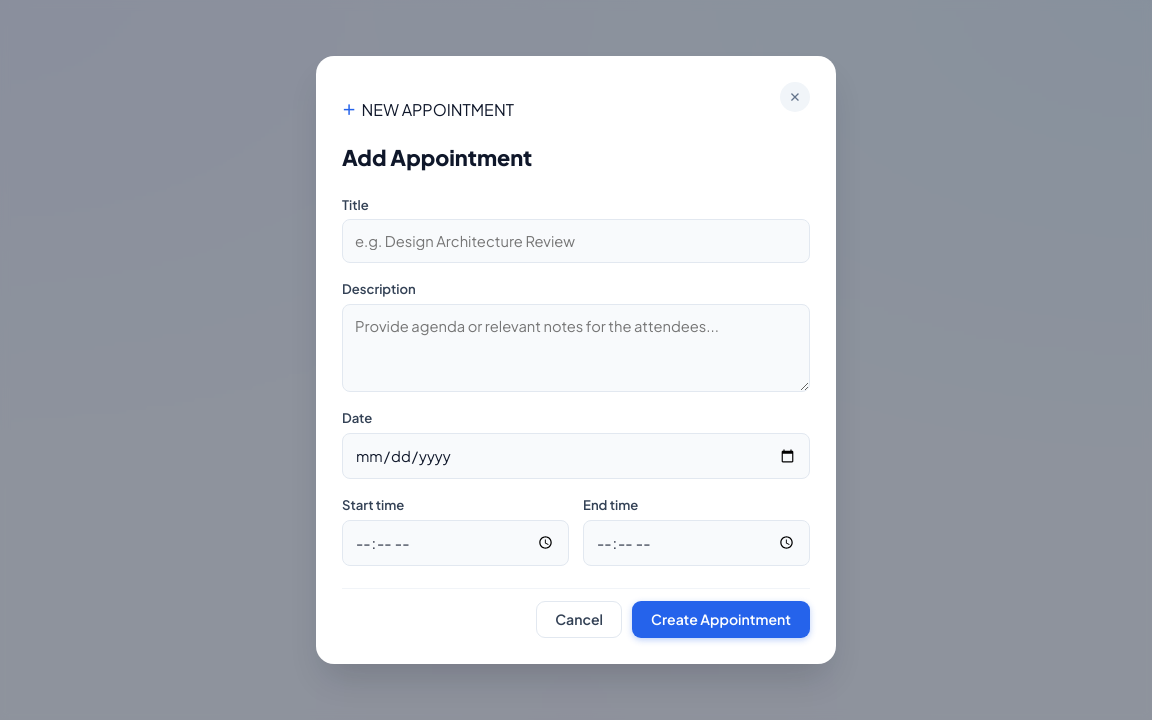
AppointmentForm › validates start and end times are required
The image size is (1152, 720).
In the field labelled "Title": (576,241) [342, 219, 810, 263], type "Dental Checkup"
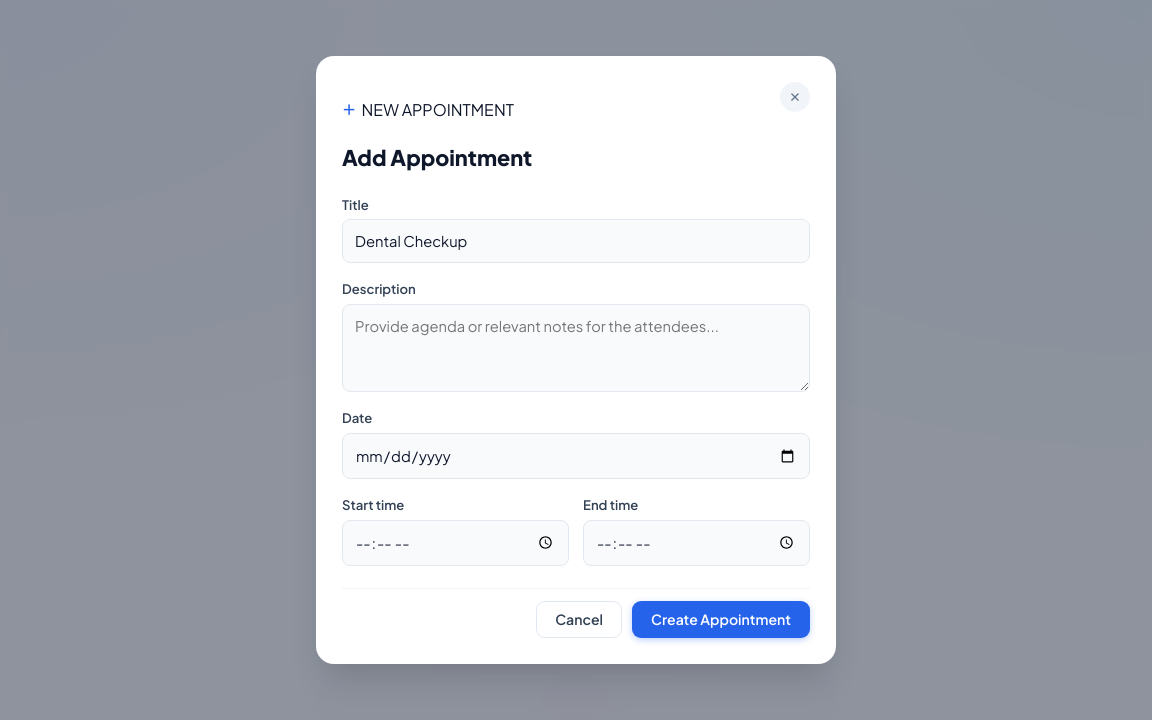
In the date field labelled "Date": (576,456) [342, 433, 810, 479], type "2026-09-20"
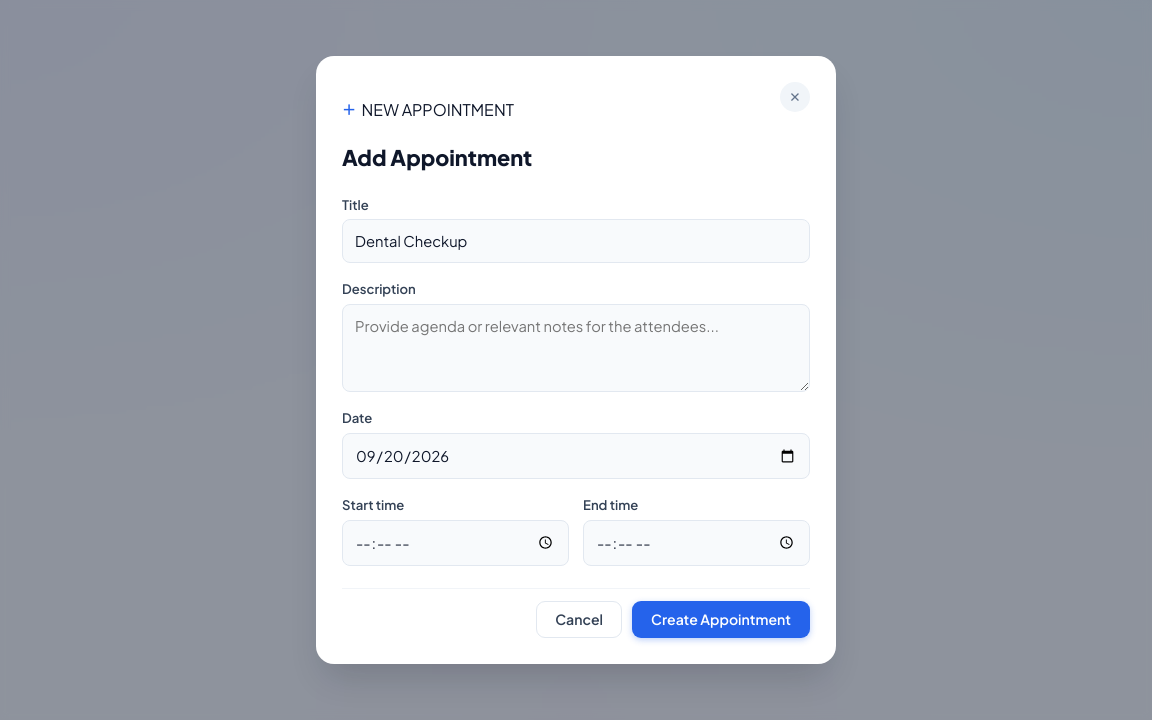
Click the button "Create Appointment": (721,619) [632, 601, 810, 638]
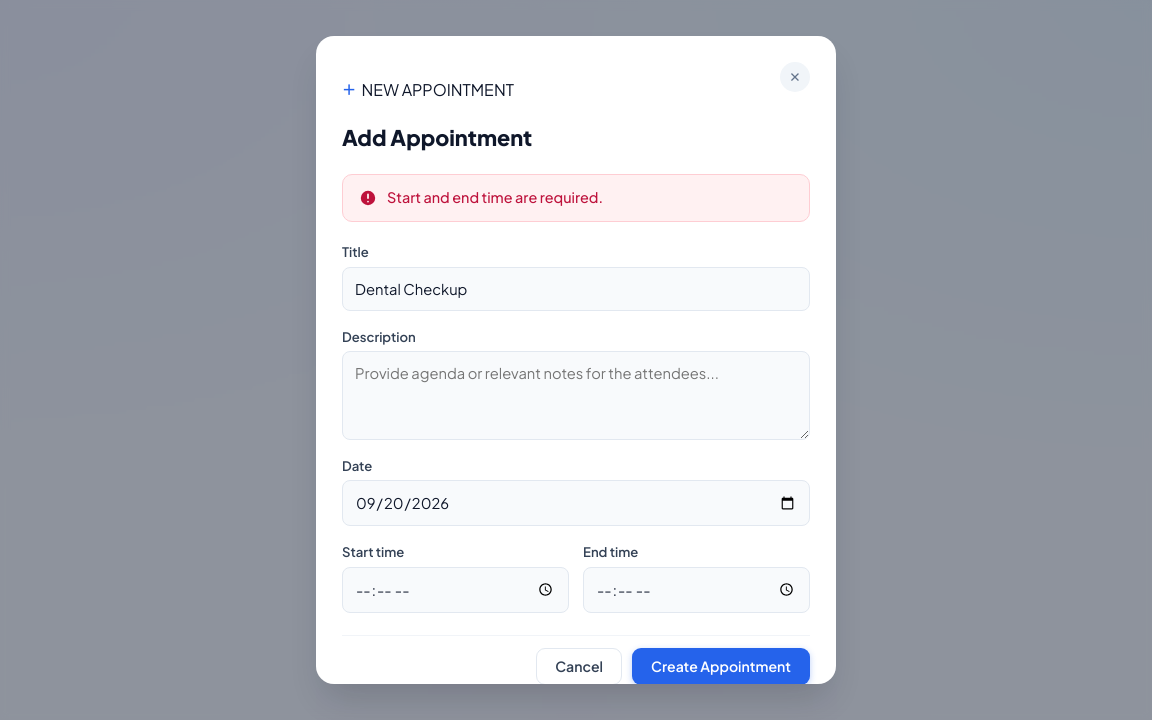
Check: the message reads "Start and end time are required.", box [387, 188, 603, 206]
